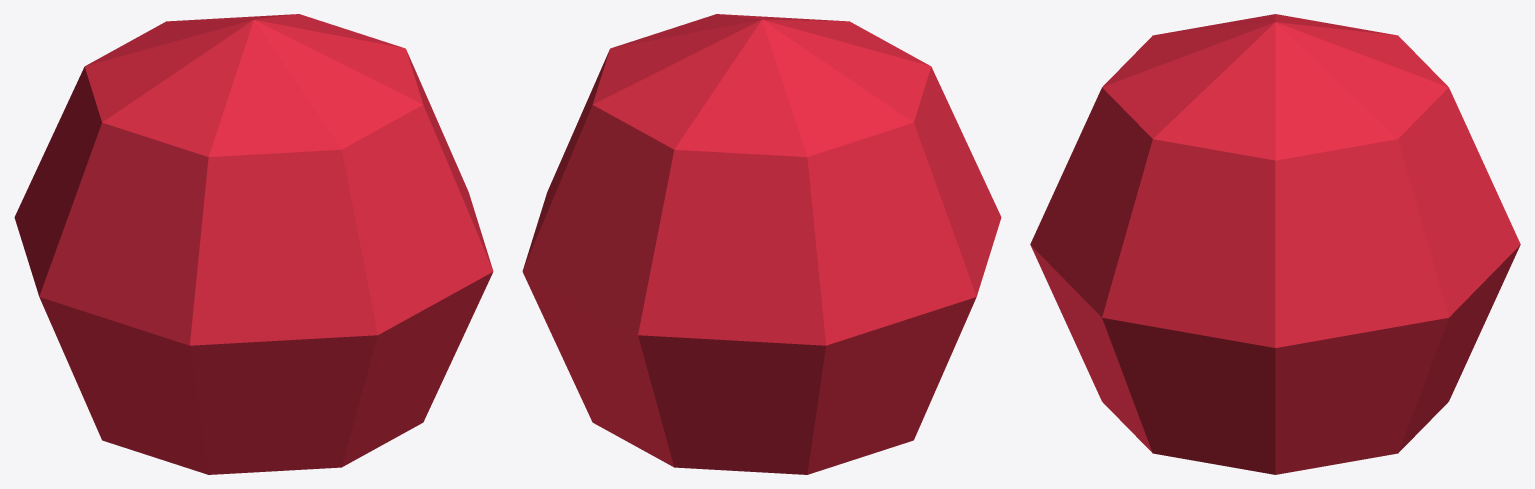
The model's file is berry.glb.
3 renders of one model, left to right at view 1: azimuth 30°, elevation 25°; view 2: azimuth 150°, elevation 25°; view 3: azimuth 270°, elevation 25°, orthographic.
Parts seen in each view (by area): view 1: Sphere; view 2: Sphere; view 3: Sphere.
Part boxes in pixels (bbox=[...]): Sphere: bbox=[14, 14, 493, 474]; Sphere: bbox=[522, 14, 1001, 474]; Sphere: bbox=[1030, 14, 1520, 474].
Size of the model in its own units: 0.4 by 0.4 by 0.4.
